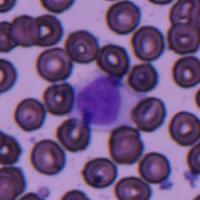L: (76, 74, 124, 127)
